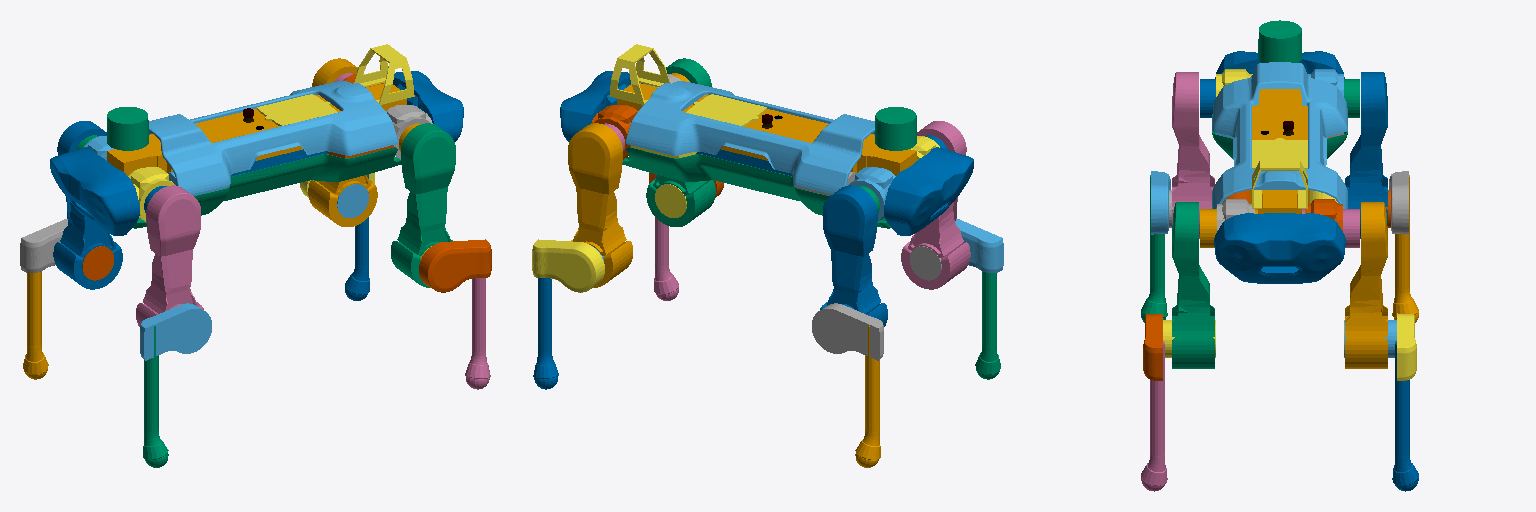
--- What the picture shows (computed from the rendered views, not written in the file) ---
3 views of the same robot in one strip: view 1: azimuth 30°, elevation 25°; view 2: azimuth 150°, elevation 25°; view 3: azimuth 270°, elevation 25° (orthographic).
Robot: anymal — 76 links, 75 joints (12 revolute, 63 fixed); root link base; default pose: all joints at 0.
Visible links, largest first — view 1: top_shell, RF_thigh_fixed, RH_thigh_fixed, face_rear, bottom_shell, LH_thigh_fixed, base, RF_shank_fixed, RH_shank_fixed, LF_thigh_fixed, face_front, RH_FOOT (+12 smaller); view 2: top_shell, LF_thigh_fixed, LH_thigh_fixed, face_rear, bottom_shell, RH_thigh_fixed, base, LF_shank_fixed, LH_shank_fixed, RF_thigh_fixed, face_front, LH_FOOT (+12 smaller); view 3: top_shell, face_front, LF_thigh_fixed, RF_thigh_fixed, RH_thigh_fixed, LH_thigh_fixed, base, LF_FOOT, RF_FOOT, velodyne, LH_FOOT, RH_FOOT (+14 smaller).
Link boxes in pixels (x1=…): top_shell: x1=149, y1=80, x2=397, y2=193; RF_thigh_fixed: x1=391, y1=123, x2=455, y2=287; RH_thigh_fixed: x1=136, y1=185, x2=203, y2=326; face_rear: x1=50, y1=147, x2=139, y2=235; bottom_shell: x1=132, y1=147, x2=401, y2=228; LH_thigh_fixed: x1=53, y1=121, x2=122, y2=289; base: x1=107, y1=83, x2=406, y2=175; RF_shank_fixed: x1=419, y1=239, x2=491, y2=292; RH_shank_fixed: x1=140, y1=303, x2=211, y2=360; LF_thigh_fixed: x1=308, y1=58, x2=377, y2=226; face_front: x1=393, y1=71, x2=463, y2=141; RH_FOOT: x1=143, y1=326, x2=168, y2=467; top_shell: x1=625, y1=81, x2=874, y2=193; LF_thigh_fixed: x1=568, y1=123, x2=632, y2=287; LH_thigh_fixed: x1=820, y1=185, x2=887, y2=326; face_rear: x1=884, y1=147, x2=973, y2=235; bottom_shell: x1=622, y1=147, x2=891, y2=228; RH_thigh_fixed: x1=901, y1=121, x2=970, y2=289; base: x1=617, y1=83, x2=916, y2=175; LF_shank_fixed: x1=532, y1=239, x2=604, y2=292; LH_shank_fixed: x1=812, y1=303, x2=883, y2=360; RF_thigh_fixed: x1=646, y1=58, x2=715, y2=226; face_front: x1=560, y1=71, x2=630, y2=141; LH_FOOT: x1=855, y1=326, x2=880, y2=467; top_shell: x1=1212, y1=62, x2=1347, y2=208; face_front: x1=1214, y1=213, x2=1345, y2=283; LF_thigh_fixed: x1=1345, y1=202, x2=1387, y2=368; RF_thigh_fixed: x1=1172, y1=202, x2=1214, y2=368; RH_thigh_fixed: x1=1172, y1=72, x2=1214, y2=238; LH_thigh_fixed: x1=1345, y1=72, x2=1387, y2=238; base: x1=1250, y1=89, x2=1309, y2=213; LF_FOOT: x1=1392, y1=341, x2=1418, y2=491; RF_FOOT: x1=1141, y1=341, x2=1167, y2=491; velodyne: x1=1258, y1=20, x2=1301, y2=62; LH_FOOT: x1=1392, y1=175, x2=1418, y2=322; RH_FOOT: x1=1141, y1=175, x2=1167, y2=322.
Size in the robot's own frame: 1.05 by 0.6518 by 0.8091 metres.
37 mesh visuals loaded from 15 distinct referenced files (15 Collada DAE).

robot.urdf — anymal:
<?xml version="1.0" encoding="utf-8"?>
<!-- This file contains the description of the ANYmal robot. -->
<robot name="anymal">
  <!-- [kg * m^2] -->
  <!-- [m] -->
  <!-- measured -->
  <!-- Base link -->
  <link name="base">
    <visual>
      <origin rpy="0 0 0" xyz="0 0 0"/>
      <geometry>
        <mesh filename="../meshes/base.dae" scale="1.0 1.0     1.0"/>
      </geometry>
    </visual>
    <!-- <collision>
      <origin rpy="0 0 0" xyz="0 0 0"/>
      <geometry>
        <box size="0.8 0.16 0.1"/>
      </geometry>
    </collision> -->
    <collision>
      <origin rpy="0 1.57079632679 0" xyz="0 0 0"/>
      <geometry>
        <cylinder length="0.75" radius="0.1"/>
      </geometry>
    </collision>
    <inertial>
      <origin rpy="0 0 0" xyz="-0.02174 0.01649 0.0255"/>
      <mass value="10.3961"/>
      <inertia ixx="0.01883985046" ixy="0.00047876011" ixz="0.0019687174" iyy="0.37477859508" iyz="5.971291e-05" izz="0.37692039276"/>
    </inertial>
    <!-- Shell self filtering -->
    <self_filter>
      <origin rpy="0 0 0" xyz="0 0 0"/>
      <geometry>
        <box size="1.05 0.5 0.25"/>
      </geometry>
    </self_filter>
  </link>
  <!-- [kg * m^2] -->
  <!-- Fixed joint base topshell -->
  <joint name="base_top_shell" type="fixed">
    <parent link="base"/>
    <child link="top_shell"/>
    <origin rpy="0 0 0" xyz="0 0 0"/>
  </joint>
  <!-- Top shell link -->
  <link name="top_shell">
    <visual>
      <origin rpy="0 0 0" xyz="0 0 0"/>
      <geometry>
        <mesh filename="../meshes/top_shell.dae" scale="1.0 1.0 1.0"/>
      </geometry>
    </visual>
    <inertial>
      <origin rpy="0 0 0" xyz="-0.00777 -0.00013 0.06523"/>
      <mass value="0.602"/>
      <inertia ixx="0.00664789486" ixy="1.247923e-05" ixz="0.00053990097" iyy="0.02587392411" iyz="3.7614e-07" izz="0.03152303792"/>
    </inertial>
  </link>
  <!-- [kg * m^2] -->
  <!-- Fixed joint base topshell -->
  <joint name="base_bottom_shell" type="fixed">
    <parent link="base"/>
    <child link="bottom_shell"/>
    <origin rpy="0 0 0" xyz="0 0 0"/>
  </joint>
  <!-- Bottom shell link -->
  <link name="bottom_shell">
    <visual>
      <origin rpy="0 0 0" xyz="0 0 0"/>
      <geometry>
        <mesh filename="../meshes/bottom_shell.dae" scale="1.0 1.0 1.0"/>
      </geometry>
    </visual>
    <inertial>
      <origin rpy="0 0 0" xyz="-0.00333 1e-05 -0.07705"/>
      <mass value="1.13247"/>
      <inertia ixx="0.00927353677" ixy="5.41222e-06" ixz="9.039821e-05" iyy="0.06134388239" iyz="2.3042e-07" izz="0.06853531465"/>
    </inertial>
  </link>

  <!-- [kg * m^2] -->
  <!-- Fixed joint base handle -->
  <joint name="base_handle" type="fixed">
    <parent link="base"/>
    <child link="handle"/>
    <origin rpy="0 0 0" xyz="0 0 0"/>
  </joint>
  <!-- Handle link -->
  <link name="handle">
    <visual>
      <origin rpy="0 0 0" xyz="0 0 0"/>
      <geometry>
        <mesh filename="../meshes/handle.dae" scale="1.0 1.0     1.0"/>
      </geometry>
    </visual>
    <inertial>
      <origin rpy="0 0 0" xyz="0.37801 0.0 0.1372"/>
      <mass value="0.30655"/>
      <inertia ixx="0.00148775766" ixy="3.55e-09" ixz="5.921332e-05" iyy="0.00067629686" iyz="5.1e-10" izz="0.00113865028"/>
    </inertial>
  </link>
  <!-- [m] -->
  <!-- measured -->
  <!-- Fixed joint base face -->
  <joint name="base_face_front" type="fixed">
    <parent link="base"/>
    <child link="face_front"/>
    <origin rpy="0 0 -0.0" xyz="0.4145 0 0"/>
  </joint>
  <!-- Shell link -->
  <link name="face_front">
    <visual>
      <origin rpy="0 0 0" xyz="0 0 0"/>
      <geometry>
        <mesh filename="../meshes/face.dae" scale="1.0 1.0 1.0"/>
      </geometry>
    </visual>
    <inertial>
      <origin rpy="0 0 0" xyz="0.0309 0.0 0.00013"/>
      <mass value="0.07792"/>
      <inertia ixx="0.00015384285" ixy="0.0" ixz="-2.5126e-07" iyy="4.672826e-05" iyz="0.0" izz="0.00018905481"/>
    </inertial>
  </link>
  <!-- [kg * m^2] -->
  <!-- [m] -->
  <!-- Camera joint -->
  <!-- Is located between the two back screw holes at ground level. -->
  <joint name="face_front_to_realsense_d435_front_camera" type="fixed">
    <parent link="face_front"/>
    <child link="realsense_d435_front_camera"/>
    <origin rpy="0.0180287275743 0.485250401273 0" xyz="0.04715 0.0 -0.0292"/>
  </joint>
  <!-- Camera link -->
  <link name="realsense_d435_front_camera">
    <!-- <visual>
      <origin rpy="0 0 0" xyz="0.0 0.0 0.0"/>
      <geometry>
        <mesh filename="../meshes/realsense_d435_3_1_1_mesh.obj" scale="1.0 1.0 1.0"/>
      </geometry>
    </visual> -->
    <inertial>
      <origin rpy="0 0 0" xyz="0.01618 3e-05 0.04715"/>
      <mass value="0.10006"/>
      <inertia ixx="9.072675e-05" ixy="2.73737e-06" ixz="1.969e-08" iyy="1.318628e-05" iyz="9.53e-08" izz="9.0056e-05"/>
    </inertial>
  </link>
  <!-- Camera parent joint -->
  <!-- Frame lies on the left ir camera according to any_realsense2_camera urdf. -->
  <joint name="realsense_d435_front_camera_to_camera_parent" type="fixed">
    <parent link="realsense_d435_front_camera"/>
    <child link="realsense_d435_front_camera_parent"/>
    <origin rpy="0.0 0.0 0.0" xyz="0.0255 0.0175 0.0"/>
  </joint>
  <!-- Camera parent link -->
  <link name="realsense_d435_front_camera_parent"/>
  <!-- Depth optical frame joint -->
  <joint name="realsense_d435_front_camera_parent_to_depth_optical_frame" type="fixed">
    <parent link="realsense_d435_front_camera_parent"/>
    <child link="realsense_d435_front_depth_optical_frame"/>
    <origin rpy="-1.57079632679 0.0 -1.57079632679" xyz="0.0 0.0 0.0"/>
  </joint>
  <!-- Depth optical frame link -->
  <link name="realsense_d435_front_depth_optical_frame"/>
  <!-- Camera color frame joint -->
  <joint name="realsense_d435_front_camera_parent_to_color_frame" type="fixed">
    <parent link="realsense_d435_front_camera_parent"/>
    <child link="realsense_d435_front_color_frame"/>
    <origin rpy="0 0 0" xyz="0 0.015 0"/>
  </joint>
  <!-- Camera color frame link -->
  <link name="realsense_d435_front_color_frame"/>
  <!-- Camera color optical joint -->
  <joint name="realsense_d435_front_color_frame_to_color_optical_frame" type="fixed">
    <parent link="realsense_d435_front_color_frame"/>
    <child link="realsense_d435_front_color_optical_frame"/>
    <origin rpy="-1.57079632679 0.0 -1.57079632679" xyz="0.0 0.0 0.0"/>
  </joint>
  <!-- Camera color optical link -->
  <link name="realsense_d435_front_color_optical_frame"/>
  <!-- simulation or bagfile_is_played -->
  <!-- simulation -->
  <!-- [kg * m^2] -->
  <!-- [m] -->
  <!-- Camera joint -->
  <!-- Is located in the center of the mounting points. -->
  <joint name="face_front_to_blackfly_front_camera" type="fixed">
    <parent link="face_front"/>
    <child link="blackfly_front_camera"/>
    <origin rpy="0 0 0" xyz="0.09850 0.0 0.01497"/>
  </joint>
  <!-- Camera link -->
  <link name="blackfly_front_camera">
    <!-- <visual>
      <origin rpy="0 0 0" xyz="0.0 0.0 0.0"/>
      <geometry>
        <mesh filename="../meshes/blackfly_3_1_1_mesh.obj" scale="1.0 1.0 1.0"/>
      </geometry>
    </visual> -->
    <inertial>
      <origin rpy="0 0 0" xyz="-0.02575 5e-05 -0.00603"/>
      <mass value="0.1716"/>
      <inertia ixx="4.459725e-05" ixy="-1.5215e-07" ixz="7.82278e-06" iyy="6.206251e-05" iyz="1.3234e-07" izz="5.183372e-05"/>
    </inertial>
  </link>
  <!-- Camera parent joint -->
  <joint name="blackfly_front_camera_to_camera_parent" type="fixed">
    <parent link="blackfly_front_camera"/>
    <child link="blackfly_front_camera_parent"/>
    <origin rpy="-1.57079632679 0.0 -1.57079632679" xyz="0.0 0.0 0.0"/>
  </joint>
  <!-- Camera parent link -->
  <link name="blackfly_front_camera_parent"/>
  <!-- simulation -->
  <!-- [m] -->
  <!-- measured -->
  <!-- Fixed joint base face -->
  <joint name="base_face_rear" type="fixed">
    <parent link="base"/>
    <child link="face_rear"/>
    <origin rpy="0 0 3.14159265359" xyz="-0.4145 0 0"/>
  </joint>
  <!-- Shell link -->
  <link name="face_rear">
    <visual>
      <origin rpy="0 0 0" xyz="0 0 0"/>
      <geometry>
        <mesh filename="../meshes/face.dae" scale="1.0 1.0 1.0"/>
      </geometry>
    </visual>
    <inertial>
      <origin rpy="0 0 0" xyz="0.0309 0.0 0.00013"/>
      <mass value="0.07792"/>
      <inertia ixx="0.00015384285" ixy="0.0" ixz="-2.5126e-07" iyy="4.672826e-05" iyz="0.0" izz="0.00018905481"/>
    </inertial>
  </link>
  <!-- [kg * m^2] -->
  <!-- [m] -->
  <!-- Camera joint -->
  <!-- Is located between the two back screw holes at ground level. -->
  <joint name="face_rear_to_realsense_d435_rear_camera" type="fixed">
    <parent link="face_rear"/>
    <child link="realsense_d435_rear_camera"/>
    <origin rpy="0.0188521739154 0.529785967797 0" xyz="0.04715 0.0 -0.0292"/>
  </joint>
  <!-- Camera link -->
  <link name="realsense_d435_rear_camera">
    <!-- <visual>
      <origin rpy="0 0 0" xyz="0.0 0.0 0.0"/>
      <geometry>
        <mesh filename="../meshes/realsense_d435_3_1_1_mesh.obj" scale="1.0 1.0 1.0"/>
      </geometry>
    </visual> -->
    <inertial>
      <origin rpy="0 0 0" xyz="0.01618 3e-05 0.04715"/>
      <mass value="0.10006"/>
      <inertia ixx="9.072675e-05" ixy="2.73737e-06" ixz="1.969e-08" iyy="1.318628e-05" iyz="9.53e-08" izz="9.0056e-05"/>
    </inertial>
  </link>
  <!-- Camera parent joint -->
  <!-- Frame lies on the left ir camera according to any_realsense2_camera urdf. -->
  <joint name="realsense_d435_rear_camera_to_camera_parent" type="fixed">
    <parent link="realsense_d435_rear_camera"/>
    <child link="realsense_d435_rear_camera_parent"/>
    <origin rpy="0.0 0.0 0.0" xyz="0.0255 0.0175 0.0"/>
  </joint>
  <!-- Camera parent link -->
  <link name="realsense_d435_rear_camera_parent"/>
  <!-- Depth optical frame joint -->
  <joint name="realsense_d435_rear_camera_parent_to_depth_optical_frame" type="fixed">
    <parent link="realsense_d435_rear_camera_parent"/>
    <child link="realsense_d435_rear_depth_optical_frame"/>
    <origin rpy="-1.57079632679 0.0 -1.57079632679" xyz="0.0 0.0 0.0"/>
  </joint>
  <!-- Depth optical frame link -->
  <link name="realsense_d435_rear_depth_optical_frame"/>
  <!-- Camera color frame joint -->
  <joint name="realsense_d435_rear_camera_parent_to_color_frame" type="fixed">
    <parent link="realsense_d435_rear_camera_parent"/>
    <child link="realsense_d435_rear_color_frame"/>
    <origin rpy="0 0 0" xyz="0 0.015 0"/>
  </joint>
  <!-- Camera color frame link -->
  <link name="realsense_d435_rear_color_frame"/>
  <!-- Camera color optical joint -->
  <joint name="realsense_d435_rear_color_frame_to_color_optical_frame" type="fixed">
    <parent link="realsense_d435_rear_color_frame"/>
    <child link="realsense_d435_rear_color_optical_frame"/>
    <origin rpy="-1.57079632679 0.0 -1.57079632679" xyz="0.0 0.0 0.0"/>
  </joint>
  <!-- Camera color optical link -->
  <link name="realsense_d435_rear_color_optical_frame"/>
  <!-- simulation or bagfile_is_played -->
  <!-- simulation -->
  <!-- [kg * m^2] -->
  <!-- [m] -->
  <!-- Camera joint -->
  <!-- Is located in the center of the mounting points. -->
  <joint name="face_rear_to_blackfly_rear_camera" type="fixed">
    <parent link="face_rear"/>
    <child link="blackfly_rear_camera"/>
    <origin rpy="0 0 0" xyz="0.09850 0.0 0.01497"/>
  </joint>
  <!-- Camera link -->
  <link name="blackfly_rear_camera">
    <!-- <visual>
      <origin rpy="0 0 0" xyz="0.0 0.0 0.0"/>
      <geometry>
        <mesh filename="../meshes/blackfly_3_1_1_mesh.obj" scale="1.0 1.0 1.0"/>
      </geometry>
    </visual> -->
    <inertial>
      <origin rpy="0 0 0" xyz="-0.02575 5e-05 -0.00603"/>
      <mass value="0.1716"/>
      <inertia ixx="4.459725e-05" ixy="-1.5215e-07" ixz="7.82278e-06" iyy="6.206251e-05" iyz="1.3234e-07" izz="5.183372e-05"/>
    </inertial>
  </link>
  <!-- Camera parent joint -->
  <joint name="blackfly_rear_camera_to_camera_parent" type="fixed">
    <parent link="blackfly_rear_camera"/>
    <child link="blackfly_rear_camera_parent"/>
    <origin rpy="-1.57079632679 0.0 -1.57079632679" xyz="0.0 0.0 0.0"/>
  </joint>
  <!-- Camera parent link -->
  <link name="blackfly_rear_camera_parent"/>
  <!-- simulation -->
  <!-- [kg * m^2] -->
  <!-- Fixed joint base battery -->
  <joint name="base_battery" type="fixed">
    <parent link="base"/>
    <child link="battery"/>
    <origin rpy="0 0 0" xyz="0 0 0"/>
  </joint>
  <!-- Shell link -->
  <link name="battery">
    <visual>
      <origin rpy="0 0 0" xyz="0 0 0"/>
      <geometry>
        <mesh filename="../meshes/battery.dae" scale="1.0 1.0     1.0"/>
      </geometry>
    </visual>
    <inertial>
      <origin rpy="0 0 0" xyz="-0.00067 -0.00023 -0.03362"/>
      <mass value="5.53425"/>
      <inertia ixx="0.00749474794" ixy="0.00016686282" ixz="7.82763e-05" iyy="0.0722338913" iyz="1.42902e-06" izz="0.07482717535"/>
    </inertial>
  </link>
  <!-- Fixed joint to add docking socket -->
  <joint name="base_to_docking_socket" type="fixed">
    <parent link="base"/>
    <child link="docking_socket"/>
    <origin rpy="0 0 0" xyz="0.343 0.0 -0.08"/>
  </joint>
  <!-- Docking socket link -->
  <link name="docking_socket"/>
  <!-- [] -->
  <link name="imu_link">
    <visual>
      <origin rpy="0 0 0" xyz="0 0 0.005"/>
      <geometry>
        <box size="0.024 0.024 0.01"/>
      </geometry>
      <material name="orange"/>
    </visual>
    <inertial>
      <mass value="0.01"/>
      <origin xyz="0 0 0"/>
      <inertia ixx="5.63333333333e-07" ixy="0.0" ixz="0.0" iyy="9.6e-07" iyz="0.0" izz="5.63333333333e-07"/>
    </inertial>
  </link>
  <joint name="imu_joint" type="fixed">
    <parent link="base"/>
    <child link="imu_link"/>
    <origin rpy="0.0 0.0 0.0" xyz="0.2488 0.00835 0.04628"/>
  </joint>
  <!-- [kg * m^2] -->
  <!-- [m] -->
  <!-- Camera joint -->
  <!-- Is located between the two back screw holes at ground level. -->
  <joint name="base_to_realsense_d435_left_camera" type="fixed">
    <parent link="base"/>
    <child link="realsense_d435_left_camera"/>
    <origin rpy="-0.0152290274679 0.510627488597 1.57079632679" xyz="0.0 0.07646 0.02905"/>
  </joint>
  <!-- Camera link -->
  <link name="realsense_d435_left_camera">
    <!-- <visual>
      <origin rpy="0 0 0" xyz="0.0 0.0 0.0"/>
      <geometry>
        <mesh filename="../meshes/realsense_d435_3_1_1_mesh.obj" scale="1.0 1.0 1.0"/>
      </geometry>
    </visual> -->
    <inertial>
      <origin rpy="0 0 0" xyz="0.01618 3e-05 0.04715"/>
      <mass value="0.10006"/>
      <inertia ixx="9.072675e-05" ixy="2.73737e-06" ixz="1.969e-08" iyy="1.318628e-05" iyz="9.53e-08" izz="9.0056e-05"/>
    </inertial>
  </link>
  <!-- Camera parent joint -->
  <!-- Frame lies on the left ir camera according to any_realsense2_camera urdf. -->
  <joint name="realsense_d435_left_camera_to_camera_parent" type="fixed">
    <parent link="realsense_d435_left_camera"/>
    <child link="realsense_d435_left_camera_parent"/>
    <origin rpy="0.0 0.0 0.0" xyz="0.0255 0.0175 0.0"/>
  </joint>
  <!-- Camera parent link -->
  <link name="realsense_d435_left_camera_parent"/>
  <!-- Depth optical frame joint -->
  <joint name="realsense_d435_left_camera_parent_to_depth_optical_frame" type="fixed">
    <parent link="realsense_d435_left_camera_parent"/>
    <child link="realsense_d435_left_depth_optical_frame"/>
    <origin rpy="-1.57079632679 0.0 -1.57079632679" xyz="0.0 0.0 0.0"/>
  </joint>
  <!-- Depth optical frame link -->
  <link name="realsense_d435_left_depth_optical_frame"/>
  <!-- Camera color frame joint -->
  <joint name="realsense_d435_left_camera_parent_to_color_frame" type="fixed">
    <parent link="realsense_d435_left_camera_parent"/>
    <child link="realsense_d435_left_color_frame"/>
    <origin rpy="0 0 0" xyz="0 0.015 0"/>
  </joint>
  <!-- Camera color frame link -->
  <link name="realsense_d435_left_color_frame"/>
  <!-- Camera color optical joint -->
  <joint name="realsense_d435_left_color_frame_to_color_optical_frame" type="fixed">
    <parent link="realsense_d435_left_color_frame"/>
    <child link="realsense_d435_left_color_optical_frame"/>
    <origin rpy="-1.57079632679 0.0 -1.57079632679" xyz="0.0 0.0 0.0"/>
  </joint>
  <!-- Camera color optical link -->
  <link name="realsense_d435_left_color_optical_frame"/>
  <!-- simulation or bagfile_is_played -->
  <!-- simulation -->
  <!-- [kg * m^2] -->
  <!-- [m] -->
  <!-- Camera joint -->
  <!-- Is located between the two back screw holes at ground level. -->
  <joint name="base_to_realsense_d435_right_camera" type="fixed">
    <parent link="base"/>
    <child link="realsense_d435_right_camera"/>
    <origin rpy="0.0323779520196 0.531011188932 -1.57079632679" xyz="0.0 -0.07646 0.02905"/>
  </joint>
  <!-- Camera link -->
  <link name="realsense_d435_right_camera">
    <!-- <visual>
      <origin rpy="0 0 0" xyz="0.0 0.0 0.0"/>
      <geometry>
        <mesh filename="../meshes/realsense_d435_3_1_1_mesh.obj" scale="1.0 1.0 1.0"/>
      </geometry>
    </visual> -->
    <inertial>
      <origin rpy="0 0 0" xyz="0.01618 3e-05 0.04715"/>
      <mass value="0.10006"/>
      <inertia ixx="9.072675e-05" ixy="2.73737e-06" ixz="1.969e-08" iyy="1.318628e-05" iyz="9.53e-08" izz="9.0056e-05"/>
    </inertial>
  </link>
  <!-- Camera parent joint -->
  <!-- Frame lies on the left ir camera according to any_realsense2_camera urdf. -->
  <joint name="realsense_d435_right_camera_to_camera_parent" type="fixed">
    <parent link="realsense_d435_right_camera"/>
    <child link="realsense_d435_right_camera_parent"/>
    <origin rpy="0.0 0.0 0.0" xyz="0.0255 0.0175 0.0"/>
  </joint>
  <!-- Camera parent link -->
  <link name="realsense_d435_right_camera_parent"/>
  <!-- Depth optical frame joint -->
  <joint name="realsense_d435_right_camera_parent_to_depth_optical_frame" type="fixed">
    <parent link="realsense_d435_right_camera_parent"/>
    <child link="realsense_d435_right_depth_optical_frame"/>
    <origin rpy="-1.57079632679 0.0 -1.57079632679" xyz="0.0 0.0 0.0"/>
  </joint>
  <!-- Depth optical frame link -->
  <link name="realsense_d435_right_depth_optical_frame"/>
  <!-- Camera color frame joint -->
  <joint name="realsense_d435_right_camera_parent_to_color_frame" type="fixed">
    <parent link="realsense_d435_right_camera_parent"/>
    <child link="realsense_d435_right_color_frame"/>
    <origin rpy="0 0 0" xyz="0 0.015 0"/>
  </joint>
  <!-- Camera color frame link -->
  <link name="realsense_d435_right_color_frame"/>
  <!-- Camera color optical joint -->
  <joint name="realsense_d435_right_color_frame_to_color_optical_frame" type="fixed">
    <parent link="realsense_d435_right_color_frame"/>
    <child link="realsense_d435_right_color_optical_frame"/>
    <origin rpy="-1.57079632679 0.0 -1.57079632679" xyz="0.0 0.0 0.0"/>
  </joint>
  <!-- Camera color optical link -->
  <link name="realsense_d435_right_color_optical_frame"/>
  <!-- simulation or bagfile_is_played -->
  <!-- simulation -->
  <!-- [kg * m^2] -->
  <!-- [m] -->
  <!-- parent to cage joint, located between mounting plate on trunk and the cage -->
  <joint name="base_to_velodyne_cage" type="fixed">
    <parent link="base"/>
    <child link="velodyne_cage"/>
    <origin rpy="0 0 0" xyz="-0.364 0.0 0.0735"/>
  </joint>
  <!-- Velodyne cage link -->
  <link name="velodyne_cage">
    <!-- <visual>
      <origin rpy="0.0 0.0 0.0" xyz="0.0 0.0 0.0"/>
      <geometry>
        <mesh filename="../meshes/cage_3_1_1_mesh.obj" scale="1.0 1.0 1.0"/>
      </geometry>
    </visual> -->
    <inertial>
      <origin rpy="0.0 0.0 0.0" xyz="0.00835 0.00422 0.09164"/>
      <mass value="0.59537"/>
      <inertia ixx="0.00355433776" ixy="-0.00017311043" ixz="0.00034272548" iyy="0.00300234186" iyz="0.00017427295" izz="0.00174109156"/>
    </inertial>
  </link>
  <!-- [kg * m^2] -->
  <!-- parent to sensor joint -->
  <joint name="velodyne_cage_to_velodyne" type="fixed">
    <parent link="velodyne_cage"/>
    <child link="velodyne"/>
    <origin rpy="0.0 0.0 -1.57079632679" xyz="0.0 0.0 0.0687"/>
  </joint>
  <!-- Velodyne sensor link -->
  <link name="velodyne">
    <inertial>
      <origin rpy="0.0 0.0 0.0" xyz="0.0 8e-05 -0.0025"/>
      <mass value="0.59"/>
      <inertia ixx="0.00063992282" ixy="1.1e-10" ixz="5.061e-08" iyy="0.00063682474" iyz="1.38867e-06" izz="0.00075943194"/>
    </inertial>
    <visual>
      <origin xyz="0 0 0"/>
      <geometry>
        <mesh filename="../meshes/lidar.dae"/>
      </geometry>
    </visual>
  </link>
  <!-- simulation -->
  <!-- [rad] -->
  <!-- joint base HAA -->
  <joint name="base_LF_HAA" type="fixed">
    <parent link="base"/>
    <child link="LF_HAA"/>
    <origin rpy="2.61799387799 0 0.0" xyz="0.2999 0.104 0.0"/>
  </joint>
  <!-- [m] -->
  <!-- [A] -->
  <!-- Drive link -->
  <link name="LF_HAA">
    <visual>
      <origin rpy="0 0 0" xyz="0 0 0"/>
      <geometry>
        <mesh filename="../meshes/drive.dae" scale="1.0 1.0     1.0"/>
      </geometry>
    </visual>
    <inertial>
      <origin rpy="0 0 0" xyz="-0.06639 7e-05 0.00046"/>
      <mass value="1.89871"/>
      <inertia ixx="0.00201800646" ixy="6.22418e-06" ixz="1.03846e-06" iyy="0.00354961412" iyz="1.0569e-07" izz="0.00353706896"/>
    </inertial>
  </link>
  <!-- joint Drive output -->
  <joint name="LF_HAA" type="revolute">
    <parent link="LF_HAA"/>
    <child link="LF_HIP"/>
    <origin rpy="0 0 0" xyz="0 0 0"/>
    <axis xyz="1 0 0"/>
    <limit effort="80.0" velocity="20." />
    <dynamics damping="0.0" friction="0.0"/>
  </joint>
  <!-- Drive output link -->
  <link name="LF_HIP">
    <inertial>
      <origin rpy="0 0 0" xyz="0 0 0"/>
      <mass value="0.001"/>
      <inertia ixx="0.000001" ixy="0.0" ixz="0.0" iyy="0.000001" iyz="0.0" izz="0.000001"/>
    </inertial>
  </link>
  <!-- [kg * m^2] -->
  <!-- joint HAA hip -->
  <joint name="LF_HIP_LF_hip_fixed" type="fixed">
    <parent link="LF_HIP"/>
    <child link="LF_hip_fixed"/>
    <origin rpy="-2.61799387799 0 0.0" xyz="0 0 0"/>
  </joint>
  <!-- Hip link -->
  <link name="LF_hip_fixed">
    <visual>
      <origin rpy="0 0 0.0" xyz="0 0 0"/>
      <geometry>
        <mesh filename="../meshes/hip_l.dae" scale="1.0 1.0     1.0"/>
      </geometry>
    </visual>
    <inertial>
      <origin rpy="0 0 0" xyz="0.04524 -0.0009 -0.00442"/>
      <mass value="0.61232"/>
      <inertia ixx="0.00120630718" ixy="5.33521e-06" ixz="1.483089e-05" iyy="0.00378577813" iyz="1.483089e-05" izz="0.00370047477"/>
    </inertial>
  </link>
  <!-- [rad] -->
  <!-- joint hip HFE -->
  <joint name="LF_hip_fixed_LF_HFE" type="fixed">
    <parent link="LF_hip_fixed"/>
    <child link="LF_HFE"/>
    <origin rpy="0 0 1.57079632679" xyz="0.0599 0.08381 0.0"/>
  </joint>
  <!-- [m] -->
  <!-- [A] -->
  <!-- Drive link -->
  <link name="LF_HFE">
    <visual>
      <origin rpy="0 0 0" xyz="0 0 0"/>
      <geometry>
        <mesh filename="../meshes/drive.dae" scale="1.0 1.0     1.0"/>
      </geometry>
    </visual>
    <inertial>
      <origin rpy="0 0 0" xyz="-0.06639 7e-05 0.00046"/>
      <mass value="1.89871"/>
      <inertia ixx="0.00201800646" ixy="6.22418e-06" ixz="1.03846e-06" iyy="0.00354961412" iyz="1.0569e-07" izz="0.00353706896"/>
    </inertial>
  </link>
  <!-- joint Drive output -->
  <joint name="LF_HFE" type="revolute">
    <parent link="LF_HFE"/>
    <child link="LF_THIGH"/>
    <origin rpy="0 0 0" xyz="0 0 0"/>
    <axis xyz="1 0 0"/>
    <limit effort="80.0" velocity="20." />
    <dynamics damping="0.0" friction="0.0"/>
  </joint>
  <!-- Drive output link -->
  <link name="LF_THIGH">
    <inertial>
      <origin rpy="0 0 0" xyz="0 0 0"/>
      <mass value="0.001"/>
      <inertia ixx="0.000001" ixy="0.0" ixz="0.0" iyy="0.000001" iyz="0.0" izz="0.000001"/>
    </inertial>
  </link>
  <!-- [m] -->
  <!-- measured -->
  <!-- joint HFE thigh -->
  <joint name="LF_THIGH_LF_thigh_fixed" type="fixed">
    <parent link="LF_THIGH"/>
    <child link="LF_thigh_fixed"/>
    <origin rpy="0 0 -1.57079632679" xyz="0 0 0"/>
  </joint>
  <!-- Thigh link -->
  <link name="LF_thigh_fixed">
    <visual>
      <origin rpy="0 0 0.0" xyz="0 0 0"/>
      <geometry>
        <mesh filename="../meshes/thigh.dae" scale="1.0 1.0     1.0"/>
      </geometry>
    </visual>
    <inertial>
      <origin rpy="0 0 0" xyz="-0.00935 0.00194 -0.1424"/>
      <mass value="1.37356"/>
      <inertia ixx="0.02568264237" ixy="0.00110418011" ixz="0.00183898863" iyy="0.02513273119" iyz="0.00217895477" izz="0.0049947572"/>
    </inertial>
  </link>
  <!-- [rad] -->
  <!-- joint thigh KFE -->
  <joint name="LF_thigh_fixed_LF_KFE" type="fixed">
    <parent link="LF_thigh_fixed"/>
    <child link="LF_KFE"/>
    <origin rpy="0 0 1.57079632679" xyz="0.0 0.1003 -0.285"/>
  </joint>
  <!-- [m] -->
  <!-- [A] -->
  <!-- Drive link -->
  <link name="LF_KFE">
    <visual>
      <origin rpy="0 0 0" xyz="0 0 0"/>
      <geometry>
        <mesh filename="../meshes/drive.dae" scale="1.0 1.0     1.0"/>
      </geometry>
    </visual>
    <collision>
      <origin rpy="0 1.57079632679 0" xyz="-0.05 0 0"/>
      <geometry>
        <cylinder length="0.12" radius="0.06"/>
      </geometry>
    </collision>
    <inertial>
      <origin rpy="0 0 0" xyz="-0.06639 7e-05 0.00046"/>
      <mass value="1.89871"/>
      <inertia ixx="0.00201800646" ixy="6.22418e-06" ixz="1.03846e-06" iyy="0.00354961412" iyz="1.0569e-07" izz="0.00353706896"/>
    </inertial>
  </link>
  <!-- joint Drive output -->
  <joint name="LF_KFE" type="revolute">
    <parent link="LF_KFE"/>
    <child link="LF_SHANK"/>
    <origin rpy="0 0 0" xyz="0 0 0"/>
    <axis xyz="1 0 0"/>
    <limit effort="80.0" velocity="20." />
    <dynamics damping="0.0" friction="0.0"/>
  </joint>
  <!-- Drive output link -->
  <link name="LF_SHANK">
    <!-- Adapter collision -->
    <!-- <collision>
      <origin rpy="0 0 0" xyz="0.01 -0.1 -0.2"/>
      <geometry>
        <cylinder length="0.2" radius="0.0175"/>
      </geometry>
    </collision> -->
    <inertial>
      <origin rpy="0 0 0" xyz="0 0 0"/>
      <mass value="0.001"/>
      <inertia ixx="0.000001" ixy="0.0" ixz="0.0" iyy="0.000001" iyz="0.0" izz="0.000001"/>
    </inertial>
  </link>
  <!-- [m] -->
  <!-- measured -->
  <!-- joint KFE shank -->
  <joint name="LF_shank_LF_shank_fixed" type="fixed">
    <parent link="LF_SHANK"/>
    <child link="LF_shank_fixed"/>
    <origin rpy="0 0 -1.57079632679" xyz="0 0 0"/>
  </joint>
  <!-- Shank link -->
  <link name="LF_shank_fixed">
    <visual>
      <origin rpy="0 0 0.0" xyz="0 0 0"/>
      <geometry>
        <mesh filename="../meshes/shank_l.dae" scale="1.0 1.0     1.0"/>
      </geometry>
    </visual>
    <inertial>
      <origin rpy="0 0 0" xyz="0.03463 0.00688 0.00098"/>
      <mass value="0.33742"/>
      <inertia ixx="0.00032748005" ixy="2.142561e-05" ixz="1.33942e-05" iyy="0.00110974122" iyz="7.601e-08" izz="0.00089388521"/>
    </inertial>
  </link>
  <!-- Leg configurations: xx (knees bent inwards), xo (knees bent backwards) -->
  <!-- joint shank foot -->
  <joint name="LF_shank_fixed_LF_FOOT" type="fixed">
    <parent link="LF_shank_fixed"/>
    <child link="LF_FOOT"/>
    <origin rpy="0 0 0" xyz="0.08795 0.01305 -0.33797"/>
  </joint>
  <!-- Foot link -->
  <link name="LF_FOOT">
    <visual>
      <origin rpy="0 0 -0.785398163397" xyz="0 0 0"/>
      <geometry>
        <mesh filename="../meshes/foot.dae" scale="1.0 1.0     1.0"/>
      </geometry>
    </visual>
    <!-- Foot collision --> 
    <collision>
      <origin xyz="0 0 0.0225"/>
      <geometry>
        <sphere radius="0.03"/>
      </geometry>
    </collision>
    <inertial>
      <origin rpy="0 0 0" xyz="0.00948 -0.00948 0.1468"/>
      <mass value="0.21663"/>
      <inertia ixx="0.00317174097" ixy="2.63048e-06" ixz="6.815581e-05" iyy="0.00317174092" iyz="6.815583e-05" izz="8.319196e-05"/>
    </inertial>
  </link>
  <!-- [rad] -->
  <!-- joint base HAA -->
  <joint name="base_RF_HAA" type="fixed">
    <parent link="base"/>
    <child link="RF_HAA"/>
    <origin rpy="-2.61799387799 0 0.0" xyz="0.2999 -0.104 0.0"/>
  </joint>
  <!-- [m] -->
  <!-- [A] -->
  <!-- Drive link -->
  <link name="RF_HAA">
    <visual>
      <origin rpy="0 0 0" xyz="0 0 0"/>
      <geometry>
        <mesh filename="../meshes/drive.dae" scale="1.0 1.0 1.0"/>
      </geometry>
    </visual>
    <inertial>
      <origin rpy="0 0 0" xyz="-0.06639 7e-05 0.00046"/>
      <mass value="1.89871"/>
      <inertia ixx="0.00201800646" ixy="6.22418e-06" ixz="1.03846e-06" iyy="0.00354961412" iyz="1.0569e-07" izz="0.00353706896"/>
    </inertial>
  </link>
  <!-- joint Drive output -->
  <joint name="RF_HAA" type="revolute">
    <parent link="RF_HAA"/>
    <child link="RF_HIP"/>
    <origin rpy="0 0 0" xyz="0 0 0"/>
    <axis xyz="1 0 0"/>
    <limit effort="80.0" velocity="20." />
    <dynamics damping="0.0" friction="0.0"/>
  </joint>
  <!-- Drive output link -->
  <link name="RF_HIP">
    <inertial>
      <origin rpy="0 0 0" xyz="0 0 0"/>
      <mass value="0.001"/>
      <inertia ixx="0.000001" ixy="0.0" ixz="0.0" iyy="0.000001" iyz="0.0" izz="0.000001"/>
    </inertial>
  </link>
  <!-- [kg * m^2] -->
  <!-- joint HAA hip -->
  <joint name="RF_HIP_RF_hip_fixed" type="fixed">
    <parent link="RF_HIP"/>
    <child link="RF_hip_fixed"/>
    <origin rpy="2.61799387799 0 0.0" xyz="0 0 0"/>
  </joint>
  <!-- Hip link -->
  <link name="RF_hip_fixed">
    <visual>
      <origin rpy="0 0 0.0" xyz="0 0 0"/>
      <geometry>
        <mesh filename="../meshes/hip_r.dae" scale="1.0 1.0     1.0"/>
      </geometry>
    </visual>
    <inertial>
      <origin rpy="0 0 0" xyz="0.04524 0.0009 -0.00442"/>
      <mass value="0.61232"/>
      <inertia ixx="0.00120630718" ixy="-5.33521e-06" ixz="1.483089e-05" iyy="0.00378577813" iyz="-1.483089e-05" izz="0.00370047477"/>
    </inertial>
  </link>
  <!-- [rad] -->
  <!-- joint hip HFE -->
  <joint name="RF_hip_fixed_RF_HFE" type="fixed">
    <parent link="RF_hip_fixed"/>
    <child link="RF_HFE"/>
    <origin rpy="0 0 -1.57079632679" xyz="0.0599 -0.08381 0.0"/>
  </joint>
  <!-- [m] -->
  <!-- [A] -->
  <!-- Drive link -->
  <link name="RF_HFE">
    <visual>
      <origin rpy="0 0 0" xyz="0 0 0"/>
      <geometry>
        <mesh filename="../meshes/drive.dae" scale="1.0 1.0     1.0"/>
      </geometry>
    </visual>
    <inertial>
      <origin rpy="0 0 0" xyz="-0.06639 7e-05 0.00046"/>
      <mass value="1.89871"/>
      <inertia ixx="0.00201800646" ixy="6.22418e-06" ixz="1.03846e-06" iyy="0.00354961412" iyz="1.0569e-07" izz="0.00353706896"/>
    </inertial>
  </link>
  <!-- joint Drive output -->
  <joint name="RF_HFE" type="revolute">
    <parent link="RF_HFE"/>
    <child link="RF_THIGH"/>
    <origin rpy="0 0 0" xyz="0 0 0"/>
    <axis xyz="-1 0 0"/>
    <limit effort="80.0" velocity="20." />
    <dynamics damping="0.0" friction="0.0"/>
  </joint>
  <!-- Drive output link -->
  <link name="RF_THIGH">
    <inertial>
      <origin rpy="0 0 0" xyz="0 0 0"/>
      <mass value="0.001"/>
      <inertia ixx="0.000001" ixy="0.0" ixz="0.0" iyy="0.000001" iyz="0.0" izz="0.000001"/>
    </inertial>
  </link>
  <!-- [m] -->
  <!-- measured -->
  <!-- joint HFE thigh -->
  <joint name="RF_THIGH_RF_thigh_fixed" type="fixed">
    <parent link="RF_THIGH"/>
    <child link="RF_thigh_fixed"/>
    <origin rpy="0 0 1.57079632679" xyz="0 0 0"/>
  </joint>
  <!-- Thigh link -->
  <link name="RF_thigh_fixed">
    <visual>
      <origin rpy="0 0 -3.14159265359" xyz="0 0 0"/>
      <geometry>
        <mesh filename="../meshes/thigh.dae" scale="1.0 1.0     1.0"/>
      </geometry>
    </visual>
    <inertial>
      <origin rpy="0 0 0" xyz="-0.00935 -0.00194 -0.1424"/>
      <mass value="1.37356"/>
      <inertia ixx="0.02568264237" ixy="-0.00110418011" ixz="0.00183898863" iyy="0.02513273119" iyz="-0.00217895477" izz="0.0049947572"/>
    </inertial>
  </link>
  <!-- [rad] -->
  <!-- joint thigh KFE -->
  <joint name="RF_thigh_fixed_RF_KFE" type="fixed">
    <parent link="RF_thigh_fixed"/>
    <child link="RF_KFE"/>
    <origin rpy="0 0 -1.57079632679" xyz="0.0 -0.1003 -0.285"/>
  </joint>
  <!-- [m] -->
  <!-- [A] -->
  <!-- Drive link -->
  <link name="RF_KFE">
    <visual>
      <origin rpy="0 0 0" xyz="0 0 0"/>
      <geometry>
        <mesh filename="../meshes/drive.dae" scale="1.0 1.0     1.0"/>
      </geometry>
    </visual>
    <collision>
      <origin rpy="0 1.57079632679 0" xyz="-0.05 0 0"/>
      <geometry>
        <cylinder length="0.12" radius="0.06"/>
      </geometry>
    </collision>
    <inertial>
      <origin rpy="0 0 0" xyz="-0.06639 7e-05 0.00046"/>
      <mass value="1.89871"/>
      <inertia ixx="0.00201800646" ixy="6.22418e-06" ixz="1.03846e-06" iyy="0.00354961412" iyz="1.0569e-07" izz="0.00353706896"/>
    </inertial>
  </link>
  <!-- joint Drive output -->
  <joint name="RF_KFE" type="revolute">
    <parent link="RF_KFE"/>
    <child link="RF_SHANK"/>
    <origin rpy="0 0 0" xyz="0 0 0"/>
    <axis xyz="-1 0 0"/>
    <limit effort="80.0" velocity="20." />
    <dynamics damping="0.0" friction="0.0"/>
  </joint>
  <!-- Drive output link -->
  <link name="RF_SHANK">
    <!-- Adapter collision -->
    <!-- <collision>
      <origin rpy="0 0 0" xyz="0.01 0.1 -0.2"/>
      <geometry>
        <cylinder length="0.2" radius="0.0175"/>
      </geometry>
    </collision> -->
    <inertial>
      <origin rpy="0 0 0" xyz="0 0 0"/>
      <mass value="0.001"/>
      <inertia ixx="0.000001" ixy="0.0" ixz="0.0" iyy="0.000001" iyz="0.0" izz="0.000001"/>
    </inertial>
  </link>
  <!-- [m] -->
  <!-- measured -->
  <!-- joint KFE shank -->
  <joint name="RF_shank_RF_shank_fixed" type="fixed">
    <parent link="RF_SHANK"/>
    <child link="RF_shank_fixed"/>
    <origin rpy="0 0 1.57079632679" xyz="0 0 0"/>
  </joint>
  <!-- Shank link -->
  <link name="RF_shank_fixed">
    <visual>
      <origin rpy="0 0 0.0" xyz="0 0 0"/>
      <geometry>
        <mesh filename="../meshes/shank_r.dae" scale="1.0 1.0     1.0"/>
      </geometry>
    </visual>
    <inertial>
      <origin rpy="0 0 0" xyz="0.03463 -0.00688 0.00098"/>
      <mass value="0.33742"/>
      <inertia ixx="0.00032748005" ixy="-2.142561e-05" ixz="1.33942e-05" iyy="0.00110974122" iyz="-7.601e-08" izz="0.00089388521"/>
    </inertial>
  </link>
  <!-- Leg configurations: xx (knees bent inwards), xo (knees bent backwards) -->
  <!-- joint shank foot -->
  <joint name="RF_shank_fixed_RF_FOOT" type="fixed">
    <parent link="RF_shank_fixed"/>
    <child link="RF_FOOT"/>
    <origin rpy="0 0 0" xyz="0.08795 -0.01305 -0.33797"/>
  </joint>
  <!-- Foot link -->
  <link name="RF_FOOT">
    <visual>
      <origin rpy="0 0 0.785398163397" xyz="0 0 0"/>
      <geometry>
        <mesh filename="../meshes/foot.dae" scale="1.0 1.0 1.0"/>
      </geometry>
    </visual>
    <!-- Foot collision -->
    <collision>
      <origin xyz="0 -0.0 0.0225"/>
      <geometry>
        <sphere radius="0.03"/>
      </geometry>
    </collision>
    <inertial>
      <origin rpy="0 0 0" xyz="0.00948 0.00948 0.1468"/>
      <mass value="0.21663"/>
      <inertia ixx="0.00317174097" ixy="-2.63048e-06" ixz="6.815581e-05" iyy="0.00317174092" iyz="-6.815583e-05" izz="8.319196e-05"/>
    </inertial>
  </link>
  <!-- [rad] -->
  <!-- joint base HAA -->
  <joint name="base_LH_HAA" type="fixed">
    <parent link="base"/>
    <child link="LH_HAA"/>
    <origin rpy="-2.61799387799 0 -3.14159265359" xyz="-0.2999 0.104 0.0"/>
  </joint>
  <!-- [m] -->
  <!-- [A] -->
  <!-- Drive link -->
  <link name="LH_HAA">
    <visual>
      <origin rpy="0 0 0" xyz="0 0 0"/>
      <geometry>
        <mesh filename="../meshes/drive.dae" scale="1.0 1.0     1.0"/>
      </geometry>
    </visual>
    <inertial>
      <origin rpy="0 0 0" xyz="-0.06639 7e-05 0.00046"/>
      <mass value="1.89871"/>
      <inertia ixx="0.00201800646" ixy="6.22418e-06" ixz="1.03846e-06" iyy="0.00354961412" iyz="1.0569e-07" izz="0.00353706896"/>
    </inertial>
  </link>
  <!-- joint Drive output -->
  <joint name="LH_HAA" type="revolute">
    <parent link="LH_HAA"/>
    <child link="LH_HIP"/>
    <origin rpy="0 0 0" xyz="0 0 0"/>
    <axis xyz="-1 0 0"/>
    <limit effort="80.0" velocity="20." />
    <dynamics damping="0.0" friction="0.0"/>
  </joint>
  <!-- Drive output link -->
  <link name="LH_HIP">
    <inertial>
      <origin rpy="0 0 0" xyz="0 0 0"/>
      <mass value="0.001"/>
      <inertia ixx="0.000001" ixy="0.0" ixz="0.0" iyy="0.000001" iyz="0.0" izz="0.000001"/>
    </inertial>
  </link>
  <!-- [kg * m^2] -->
  <!-- joint HAA hip -->
  <joint name="LH_HIP_LH_hip_fixed" type="fixed">
    <parent link="LH_HIP"/>
    <child link="LH_hip_fixed"/>
    <origin rpy="-2.61799387799 0 -3.14159265359" xyz="0 0 0"/>
  </joint>
  <!-- Hip link -->
  <link name="LH_hip_fixed">
    <visual>
      <origin rpy="0 0 -3.14159265359" xyz="0 0 0"/>
      <geometry>
        <mesh filename="../meshes/hip_l.dae" scale="1.0 1.0     1.0"/>
      </geometry>
    </visual>
    <inertial>
      <origin rpy="0 0 0" xyz="-0.04524 -0.0009 -0.00442"/>
      <mass value="0.61232"/>
      <inertia ixx="0.00120630718" ixy="-5.33521e-06" ixz="-1.483089e-05" iyy="0.00378577813" iyz="1.483089e-05" izz="0.00370047477"/>
    </inertial>
  </link>
  <!-- [rad] -->
  <!-- joint hip HFE -->
  <joint name="LH_hip_fixed_LH_HFE" type="fixed">
    <parent link="LH_hip_fixed"/>
    <child link="LH_HFE"/>
    <origin rpy="0 0 1.57079632679" xyz="-0.0599 0.08381 0.0"/>
  </joint>
  <!-- [m] -->
  <!-- [A] -->
  <!-- Drive link -->
  <link name="LH_HFE">
    <visual>
      <origin rpy="0 0 0" xyz="0 0 0"/>
      <geometry>
        <mesh filename="../meshes/drive.dae" scale="1.0 1.0     1.0"/>
      </geometry>
    </visual>
    <inertial>
      <origin rpy="0 0 0" xyz="-0.06639 7e-05 0.00046"/>
      <mass value="1.89871"/>
      <inertia ixx="0.00201800646" ixy="6.22418e-06" ixz="1.03846e-06" iyy="0.00354961412" iyz="1.0569e-07" izz="0.00353706896"/>
    </inertial>
  </link>
  <!-- joint Drive output -->
  <joint name="LH_HFE" type="revolute">
    <parent link="LH_HFE"/>
    <child link="LH_THIGH"/>
    <origin rpy="0 0 0" xyz="0 0 0"/>
    <axis xyz="1 0 0"/>
    <limit effort="80.0" velocity="20." />
    <dynamics damping="0.0" friction="0.0"/>
  </joint>
  <!-- Drive output link -->
  <link name="LH_THIGH">
    <inertial>
      <origin rpy="0 0 0" xyz="0 0 0"/>
      <mass value="0.001"/>
      <inertia ixx="0.000001" ixy="0.0" ixz="0.0" iyy="0.000001" iyz="0.0" izz="0.000001"/>
    </inertial>
  </link>
  <!-- [m] -->
  <!-- measured -->
  <!-- joint HFE thigh -->
  <joint name="LH_THIGH_LH_thigh_fixed" type="fixed">
    <parent link="LH_THIGH"/>
    <child link="LH_thigh_fixed"/>
    <origin rpy="0 0 -1.57079632679" xyz="0 0 0"/>
  </joint>
  <!-- Thigh link -->
  <link name="LH_thigh_fixed">
    <visual>
      <origin rpy="0 0 0.0" xyz="0 0 0"/>
      <geometry>
        <mesh filename="../meshes/thigh.dae" scale="1.0 1.0     1.0"/>
      </geometry>
    </visual>
    <inertial>
      <origin rpy="0 0 0" xyz="0.00935 0.00194 -0.1424"/>
      <mass value="1.37356"/>
      <inertia ixx="0.02568264237" ixy="-0.00110418011" ixz="-0.00183898863" iyy="0.02513273119" iyz="0.00217895477" izz="0.0049947572"/>
    </inertial>
  </link>
  <!-- [rad] -->
  <!-- joint thigh KFE -->
  <joint name="LH_thigh_fixed_LH_KFE" type="fixed">
    <parent link="LH_thigh_fixed"/>
    <child link="LH_KFE"/>
    <origin rpy="0 0 1.57079632679" xyz="-0.0 0.1003 -0.285"/>
  </joint>
  <!-- [m] -->
  <!-- [A] -->
  <!-- Drive link -->
  <link name="LH_KFE">
    <visual>
      <origin rpy="0 0 0" xyz="0 0 0"/>
      <geometry>
        <mesh filename="../meshes/drive.dae" scale="1.0 1.0     1.0"/>
      </geometry>
    </visual>
    <collision>
      <origin rpy="0 1.57079632679 0" xyz="-0.05 0 0"/>
      <geometry>
        <cylinder length="0.12" radius="0.06"/>
      </geometry>
    </collision>
    <inertial>
      <origin rpy="0 0 0" xyz="-0.06639 7e-05 0.00046"/>
      <mass value="1.89871"/>
      <inertia ixx="0.00201800646" ixy="6.22418e-06" ixz="1.03846e-06" iyy="0.00354961412" iyz="1.0569e-07" izz="0.00353706896"/>
    </inertial>
  </link>
  <!-- joint Drive output -->
  <joint name="LH_KFE" type="revolute">
    <parent link="LH_KFE"/>
    <child link="LH_SHANK"/>
    <origin rpy="0 0 0" xyz="0 0 0"/>
    <axis xyz="1 0 0"/>
    <limit effort="80.0" velocity="20." />
    <dynamics damping="0.0" friction="0.0"/>
  </joint>
  <!-- Drive output link -->
  <link name="LH_SHANK">
    <inertial>
      <origin rpy="0 0 0" xyz="0 0 0"/>
      <mass value="0.001"/>
      <inertia ixx="0.000001" ixy="0.0" ixz="0.0" iyy="0.000001" iyz="0.0" izz="0.000001"/>
    </inertial>
    <!-- Adapter collision -->
    <!-- <collision>
      <origin rpy="0 0 0" xyz="0.01 0.1 -0.2"/>
      <geometry>
        <cylinder length="0.2" radius="0.0175"/>
      </geometry>
    </collision> -->
  </link>
  <!-- [m] -->
  <!-- measured -->
  <!-- joint KFE shank -->
  <joint name="LH_shank_LH_shank_fixed" type="fixed">
    <parent link="LH_SHANK"/>
    <child link="LH_shank_fixed"/>
    <origin rpy="0 0 -1.57079632679" xyz="0 0 0"/>
  </joint>
  <!-- Shank link -->
  <link name="LH_shank_fixed">
    <visual>
      <origin rpy="0 0 -3.14159265359" xyz="0 0 0"/>
      <geometry>
        <mesh filename="../meshes/shank_l.dae" scale="1.0 1.0 1.0"/>
      </geometry>
    </visual>
    <inertial>
      <origin rpy="0 0 0" xyz="-0.03463 0.00688 0.00098"/>
      <mass value="0.33742"/>
      <inertia ixx="0.00032748005" ixy="-2.142561e-05" ixz="-1.33942e-05" iyy="0.00110974122" iyz="7.601e-08" izz="0.00089388521"/>
    </inertial>
  </link>
  <!-- Leg configurations: xx (knees bent inwards), xo (knees bent backwards) -->
  <!-- joint shank foot -->
  <joint name="LH_shank_fixed_LH_FOOT" type="fixed">
    <parent link="LH_shank_fixed"/>
    <child link="LH_FOOT"/>
    <origin rpy="0 0 0" xyz="-0.08795 0.01305 -0.33797"/>
  </joint>
  <!-- Foot link -->
  <link name="LH_FOOT">
    <visual>
      <origin rpy="0 0 -2.35619449019" xyz="0 0 0"/>
      <geometry>
        <mesh filename="../meshes/foot.dae" scale="1.0 1.0     1.0"/>
      </geometry>
    </visual>
    <!-- Foot collision -->  
    <collision>
      <origin xyz="0 -0.0 0.0225"/>
      <geometry>
        <sphere radius="0.03"/>
      </geometry>
    </collision>
    <inertial>
      <origin rpy="0 0 0" xyz="-0.00948 -0.00948 0.1468"/>
      <mass value="0.21663"/>
      <inertia ixx="0.00317174097" ixy="-2.63048e-06" ixz="-6.815581e-05" iyy="0.00317174092" iyz="6.815583e-05" izz="8.319196e-05"/>
    </inertial>
  </link>
  <!-- [rad] -->
  <!-- joint base HAA -->
  <joint name="base_RH_HAA" type="fixed">
    <parent link="base"/>
    <child link="RH_HAA"/>
    <origin rpy="2.61799387799 0 -3.14159265359" xyz="-0.2999 -0.104 0.0"/>
  </joint>
  <!-- [m] -->
  <!-- [A] -->
  <!-- Drive link -->
  <link name="RH_HAA">
    <visual>
      <origin rpy="0 0 0" xyz="0 0 0"/>
      <geometry>
        <mesh filename="../meshes/drive.dae" scale="1.0 1.0     1.0"/>
      </geometry>
    </visual>
    <inertial>
      <origin rpy="0 0 0" xyz="-0.06639 7e-05 0.00046"/>
      <mass value="1.89871"/>
      <inertia ixx="0.00201800646" ixy="6.22418e-06" ixz="1.03846e-06" iyy="0.00354961412" iyz="1.0569e-07" izz="0.00353706896"/>
    </inertial>
  </link>
  <!-- joint Drive output -->
  <joint name="RH_HAA" type="revolute">
    <parent link="RH_HAA"/>
    <child link="RH_HIP"/>
    <origin rpy="0 0 0" xyz="0 0 0"/>
    <axis xyz="-1 0 0"/>
    <limit effort="80.0" velocity="20." />
    <dynamics damping="0.0" friction="0.0"/>
  </joint>
  <!-- Drive output link -->
  <link name="RH_HIP">
    <inertial>
      <origin rpy="0 0 0" xyz="0 0 0"/>
      <mass value="0.001"/>
      <inertia ixx="0.000001" ixy="0.0" ixz="0.0" iyy="0.000001" iyz="0.0" izz="0.000001"/>
    </inertial>
  </link>
  <!-- [kg * m^2] -->
  <!-- joint HAA hip -->
  <joint name="RH_HIP_RH_hip_fixed" type="fixed">
    <parent link="RH_HIP"/>
    <child link="RH_hip_fixed"/>
    <origin rpy="2.61799387799 0 -3.14159265359" xyz="0 0 0"/>
  </joint>
  <!-- Hip link -->
  <link name="RH_hip_fixed">
    <visual>
      <origin rpy="0 0 -3.14159265359" xyz="0 0 0"/>
      <geometry>
        <mesh filename="../meshes/hip_r.dae" scale="1.0 1.0     1.0"/>
      </geometry>
    </visual>
    <inertial>
      <origin rpy="0 0 0" xyz="-0.04524 0.0009 -0.00442"/>
      <mass value="0.61232"/>
      <inertia ixx="0.00120630718" ixy="5.33521e-06" ixz="-1.483089e-05" iyy="0.00378577813" iyz="-1.483089e-05" izz="0.00370047477"/>
    </inertial>
  </link>
  <!-- [rad] -->
  <!-- joint hip HFE -->
  <joint name="RH_hip_fixed_RH_HFE" type="fixed">
    <parent link="RH_hip_fixed"/>
    <child link="RH_HFE"/>
    <origin rpy="0 0 -1.57079632679" xyz="-0.0599 -0.08381 0.0"/>
  </joint>
  <!-- [m] -->
  <!-- [A] -->
  <!-- Drive link -->
  <link name="RH_HFE">
    <visual>
      <origin rpy="0 0 0" xyz="0 0 0"/>
      <geometry>
        <mesh filename="../meshes/drive.dae" scale="1.0 1.0     1.0"/>
      </geometry>
    </visual>
    <inertial>
      <origin rpy="0 0 0" xyz="-0.06639 7e-05 0.00046"/>
      <mass value="1.89871"/>
      <inertia ixx="0.00201800646" ixy="6.22418e-06" ixz="1.03846e-06" iyy="0.00354961412" iyz="1.0569e-07" izz="0.00353706896"/>
    </inertial>
  </link>
  <!-- joint Drive output -->
  <joint name="RH_HFE" type="revolute">
    <parent link="RH_HFE"/>
    <child link="RH_THIGH"/>
    <origin rpy="0 0 0" xyz="0 0 0"/>
    <axis xyz="-1 0 0"/>
    <limit effort="80.0" velocity="20." />
    <dynamics damping="0.0" friction="0.0"/>
  </joint>
  <!-- Drive output link -->
  <link name="RH_THIGH">
    <inertial>
      <origin rpy="0 0 0" xyz="0 0 0"/>
      <mass value="0.001"/>
      <inertia ixx="0.000001" ixy="0.0" ixz="0.0" iyy="0.000001" iyz="0.0" izz="0.000001"/>
    </inertial>
  </link>
  <!-- [m] -->
  <!-- measured -->
  <!-- joint HFE thigh -->
  <joint name="RH_THIGH_RH_thigh_fixed" type="fixed">
    <parent link="RH_THIGH"/>
    <child link="RH_thigh_fixed"/>
    <origin rpy="0 0 1.57079632679" xyz="0 0 0"/>
  </joint>
  <!-- Thigh link -->
  <link name="RH_thigh_fixed">
    <visual>
      <origin rpy="0 0 -3.14159265359" xyz="0 0 0"/>
      <geometry>
        <mesh filename="../meshes/thigh.dae" scale="1.0 1.0     1.0"/>
      </geometry>
    </visual>
    <inertial>
      <origin rpy="0 0 0" xyz="0.00935 -0.00194 -0.1424"/>
      <mass value="1.37356"/>
      <inertia ixx="0.02568264237" ixy="0.00110418011" ixz="-0.00183898863" iyy="0.02513273119" iyz="-0.00217895477" izz="0.0049947572"/>
    </inertial>
  </link>
  <!-- [rad] -->
  <!-- joint thigh KFE -->
  <joint name="RH_thigh_fixed_RH_KFE" type="fixed">
    <parent link="RH_thigh_fixed"/>
    <child link="RH_KFE"/>
    <origin rpy="0 0 -1.57079632679" xyz="-0.0 -0.1003 -0.285"/>
  </joint>
  <!-- [m] -->
  <!-- [A] -->
  <!-- Drive link -->
  <link name="RH_KFE">
    <visual>
      <origin rpy="0 0 0" xyz="0 0 0"/>
      <geometry>
        <mesh filename="../meshes/drive.dae" scale="1.0 1.0     1.0"/>
      </geometry>
    </visual>
    <collision>
      <origin rpy="0 1.57079632679 0" xyz="-0.05 0 0"/>
      <geometry>
        <cylinder length="0.12" radius="0.06"/>
      </geometry>
    </collision>
    <inertial>
      <origin rpy="0 0 0" xyz="-0.06639 7e-05 0.00046"/>
      <mass value="1.89871"/>
      <inertia ixx="0.00201800646" ixy="6.22418e-06" ixz="1.03846e-06" iyy="0.00354961412" iyz="1.0569e-07" izz="0.00353706896"/>
    </inertial>
  </link>
  <!-- joint Drive output -->
  <joint name="RH_KFE" type="revolute">
    <parent link="RH_KFE"/>
    <child link="RH_SHANK"/>
    <origin rpy="0 0 0" xyz="0 0 0"/>
    <axis xyz="-1 0 0"/>
    <!-- <limit command_effort="80.0" current="32.0" effort="80.0" gear_velocity="7.5" lower="-9.42477796077" upper="9.42477796077" velocity="7.5"/> -->
    <limit effort="80.0" velocity="20." />
    <dynamics damping="0.0" friction="0.0"/>
  </joint>
  <!-- Drive output link -->
  <link name="RH_SHANK">
    <!-- Adapter collision -->
    <!-- <collision>
      <origin rpy="0 0 0" xyz="0.01 -0.1 -0.2"/>
      <geometry>
        <cylinder length="0.2" radius="0.0175"/>
      </geometry>
    </collision> -->
    <inertial>
      <origin rpy="0 0 0" xyz="0 0 0"/>
      <mass value="0.001"/>
      <inertia ixx="0.000001" ixy="0.0" ixz="0.0" iyy="0.000001" iyz="0.0" izz="0.000001"/>
    </inertial>
  </link>
  <!-- [m] -->
  <!-- measured -->
  <!-- joint KFE shank -->
  <joint name="RH_shank_RH_shank_fixed" type="fixed">
    <parent link="RH_SHANK"/>
    <child link="RH_shank_fixed"/>
    <origin rpy="0 0 1.57079632679" xyz="0 0 0"/>
  </joint>
  <!-- Shank link -->
  <link name="RH_shank_fixed">
    <visual>
      <origin rpy="0 0 -3.14159265359" xyz="0 0 0"/>
      <geometry>
        <mesh filename="../meshes/shank_r.dae" scale="1.0 1.0     1.0"/>
      </geometry>
    </visual>
    <inertial>
      <origin rpy="0 0 0" xyz="-0.03463 -0.00688 0.00098"/>
      <mass value="0.33742"/>
      <inertia ixx="0.00032748005" ixy="2.142561e-05" ixz="-1.33942e-05" iyy="0.00110974122" iyz="-7.601e-08" izz="0.00089388521"/>
    </inertial>
  </link>
  <!-- Leg configurations: xx (knees bent inwards), xo (knees bent backwards) -->
  <!-- joint shank foot -->
  <joint name="RH_shank_fixed_RH_FOOT" type="fixed">
    <parent link="RH_shank_fixed"/>
    <child link="RH_FOOT"/>
    <origin rpy="0 0 0" xyz="-0.08795 -0.01305 -0.33797"/>
  </joint>
  <!-- Foot link -->
  <link name="RH_FOOT">
    <visual>
      <origin rpy="0 0 -3.92699081699" xyz="0 0 0"/>
      <geometry>
        <mesh filename="../meshes/foot.dae" scale="1.0 1.0     1.0"/>
      </geometry>
    </visual>
    <!-- Foot collision -->   
    <collision>
      <origin xyz="0 -0.0 0.0225"/>
      <geometry>
        <sphere radius="0.03"/>
      </geometry>
    </collision>
    <inertial>
      <origin rpy="0 0 0" xyz="-0.00948 0.00948 0.1468"/>
      <mass value="0.21663"/>
      <inertia ixx="0.00317174097" ixy="2.63048e-06" ixz="-6.815581e-05" iyy="0.00317174092" iyz="-6.815583e-05" izz="8.319196e-05"/>
    </inertial>
  </link>
  <!-- [kg * m^2] -->
  <!-- Fixed joint base hatch -->
  <joint name="base_hatch" type="fixed">
    <parent link="base"/>
    <child link="hatch"/>
    <origin rpy="0 0 0" xyz="0.0 0.0 0.0"/>
  </joint>
  <!-- Hatch link -->
  <link name="hatch">
    <visual>
      <origin rpy="0 0 0" xyz="0.116 0 0.073"/>
      <geometry>
        <mesh filename="../meshes/hatch.dae" scale="1.0 1.0 1.0"/>
      </geometry>
    </visual>
    <inertial>
      <origin rpy="0 0 0" xyz="0.116 0.0 0.0758"/>
      <mass value="0.142"/>
      <inertia ixx="0.001" ixy="0.001" ixz="0.001" iyy="0.001" iyz="0.001" izz="0.001"/>
    </inertial>
  </link>
</robot>
